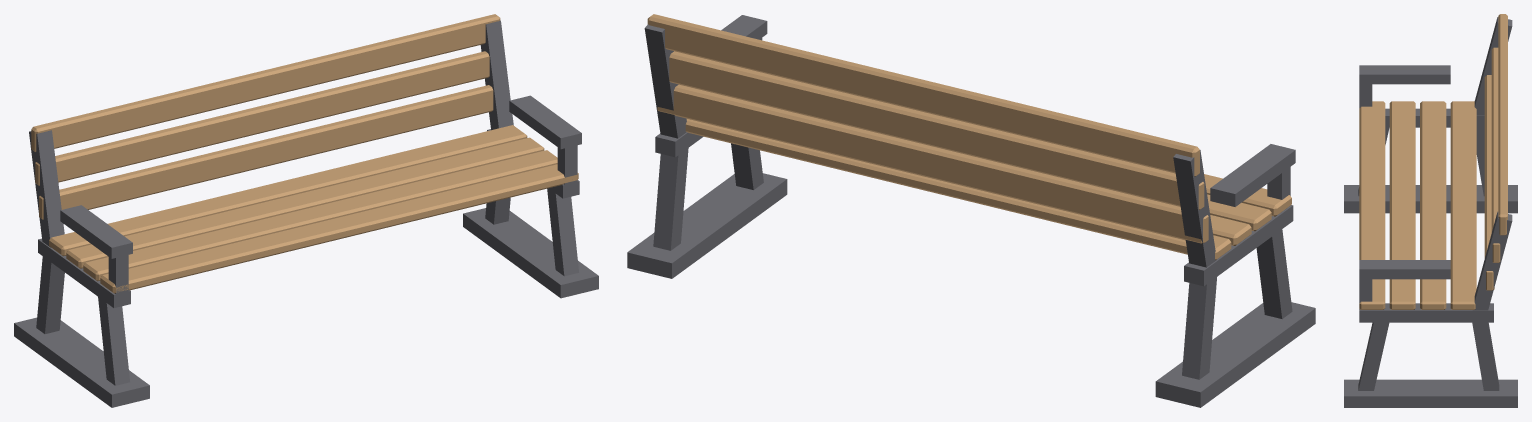
Rendered from prop_bench_01.glb.
3 views of the same model, side by side, from view 1: azimuth 30°, elevation 25°; view 2: azimuth 150°, elevation 25°; view 3: azimuth 270°, elevation 25° (orthographic). The views are drawn at different scales.
Parts seen in each view (by area): view 1: prop_bench_01_body; view 2: prop_bench_01_body; view 3: prop_bench_01_body.
Part boxes in pixels (<box>): prop_bench_01_body: <box>14,14,598,407</box>; prop_bench_01_body: <box>627,14,1315,407</box>; prop_bench_01_body: <box>1344,14,1517,407</box>.
Bounding box in the file's own units: 2.3 × 0.955 × 0.8.
